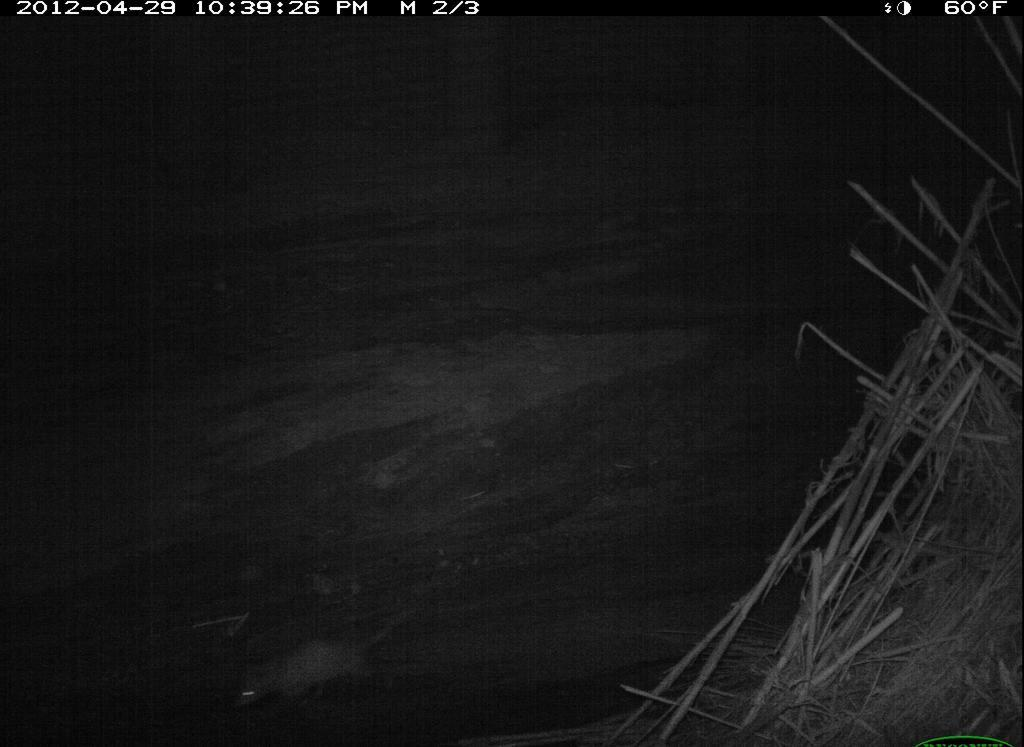opossum: (231, 600, 411, 716)
